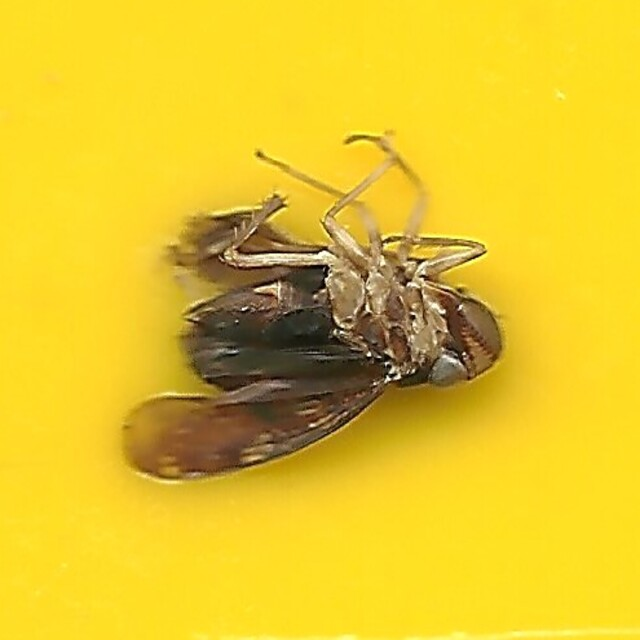Hemiptera: (129, 143, 511, 497)
